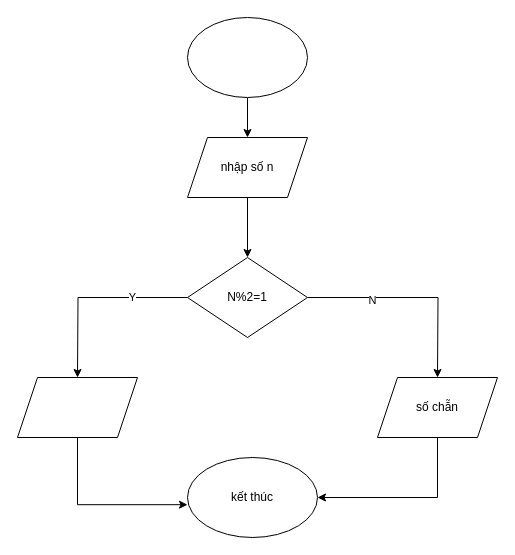
Image size: 515x555. Some labels were removed from this diagram. The shapes that lost their labels are listed below. From the top down, each one's centre as x and y in pixels, then its label:
point (247, 57): bắt đầu
point (77, 407): số lẻ
